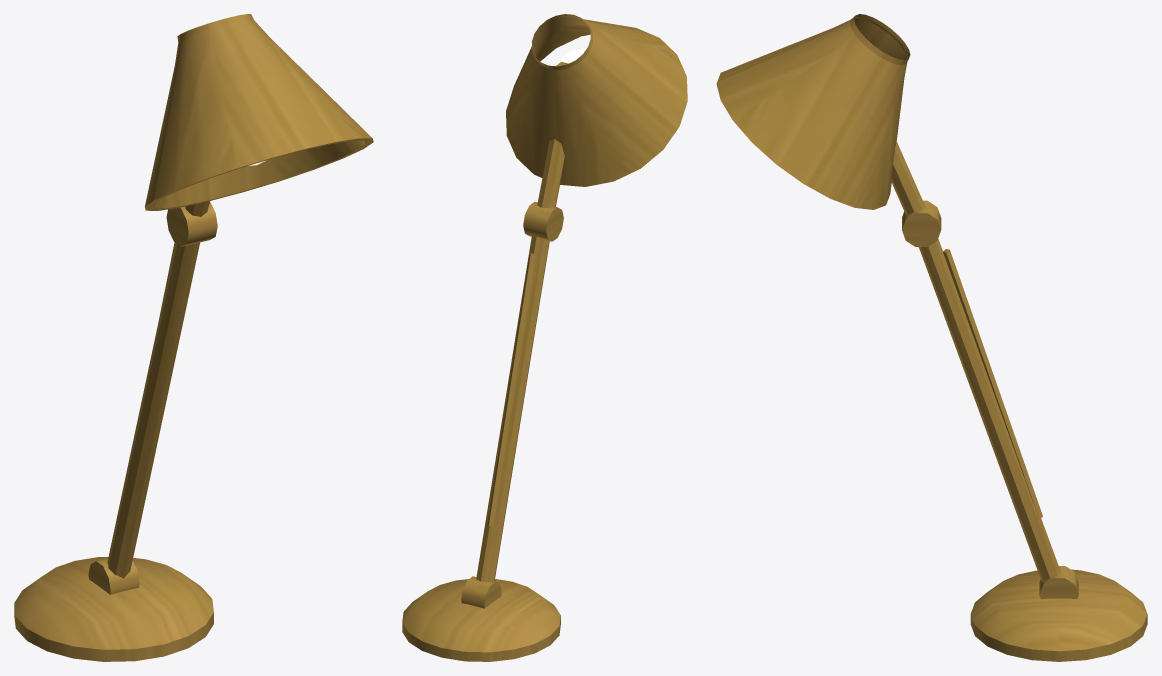
File: luminaria.glb
3 views of the same model, side by side, from view 1: azimuth 30°, elevation 25°; view 2: azimuth 150°, elevation 25°; view 3: azimuth 270°, elevation 25° (orthographic). The views are drawn at different scales.
Visible parts, largest first — view 1: cupula, base, braco-baixo, junta.001, junta; view 2: cupula, base, braco-baixo, mola, braco-cima, junta.001, junta; view 3: cupula, base, braco-baixo, mola, junta.001, braco-cima, junta.
Part boxes in pixels (<box>): cupula: <box>145,14,373,210</box>; base: <box>14,557,213,661</box>; braco-baixo: <box>107,242,199,578</box>; junta.001: <box>166,202,217,246</box>; junta: <box>88,558,139,594</box>; cupula: <box>506,14,687,186</box>; base: <box>402,579,560,661</box>; braco-baixo: <box>476,236,549,581</box>; mola: <box>487,253,535,526</box>; braco-cima: <box>537,139,564,208</box>; junta.001: <box>523,202,563,241</box>; junta: <box>461,576,501,608</box>; cupula: <box>716,14,910,209</box>; base: <box>970,569,1147,661</box>; braco-baixo: <box>918,239,1060,581</box>; mola: <box>943,249,1042,519</box>; junta.001: <box>902,200,941,246</box>; braco-cima: <box>891,142,925,214</box>; junta: <box>1039,566,1078,599</box>.
Bounding box in the file's own units: 0.216 × 0.6801 × 0.4388.
Materials: 2 (1 with a texture image).
